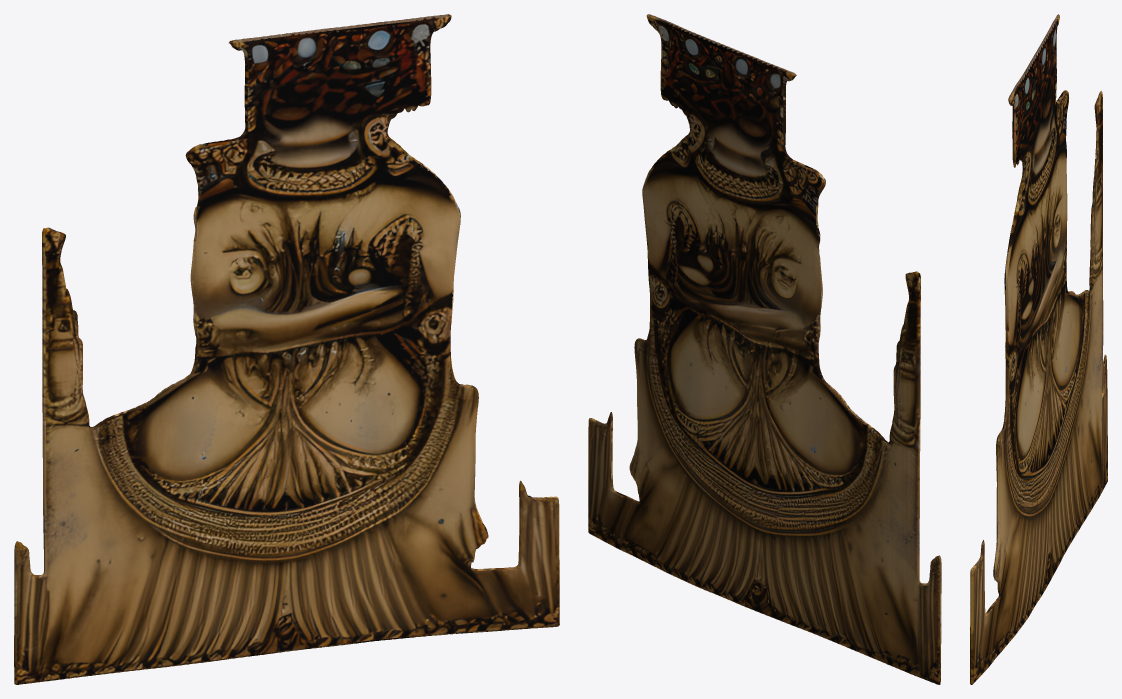
3 renders of one model, left to right at view 1: azimuth 30°, elevation 25°; view 2: azimuth 150°, elevation 25°; view 3: azimuth 270°, elevation 25°, orthographic. The views are drawn at different scales.
Parts seen in each view (by area): view 1: textured_mesh; view 2: textured_mesh; view 3: textured_mesh.
Part boxes in pixels (x1,y1,x2,y2): textured_mesh: [14, 14, 559, 684]; textured_mesh: [588, 14, 941, 684]; textured_mesh: [970, 14, 1107, 684].
Size of the model in its own units: 1.59 by 2 by 0.4534.
Materials: 1 (1 with a texture image).
